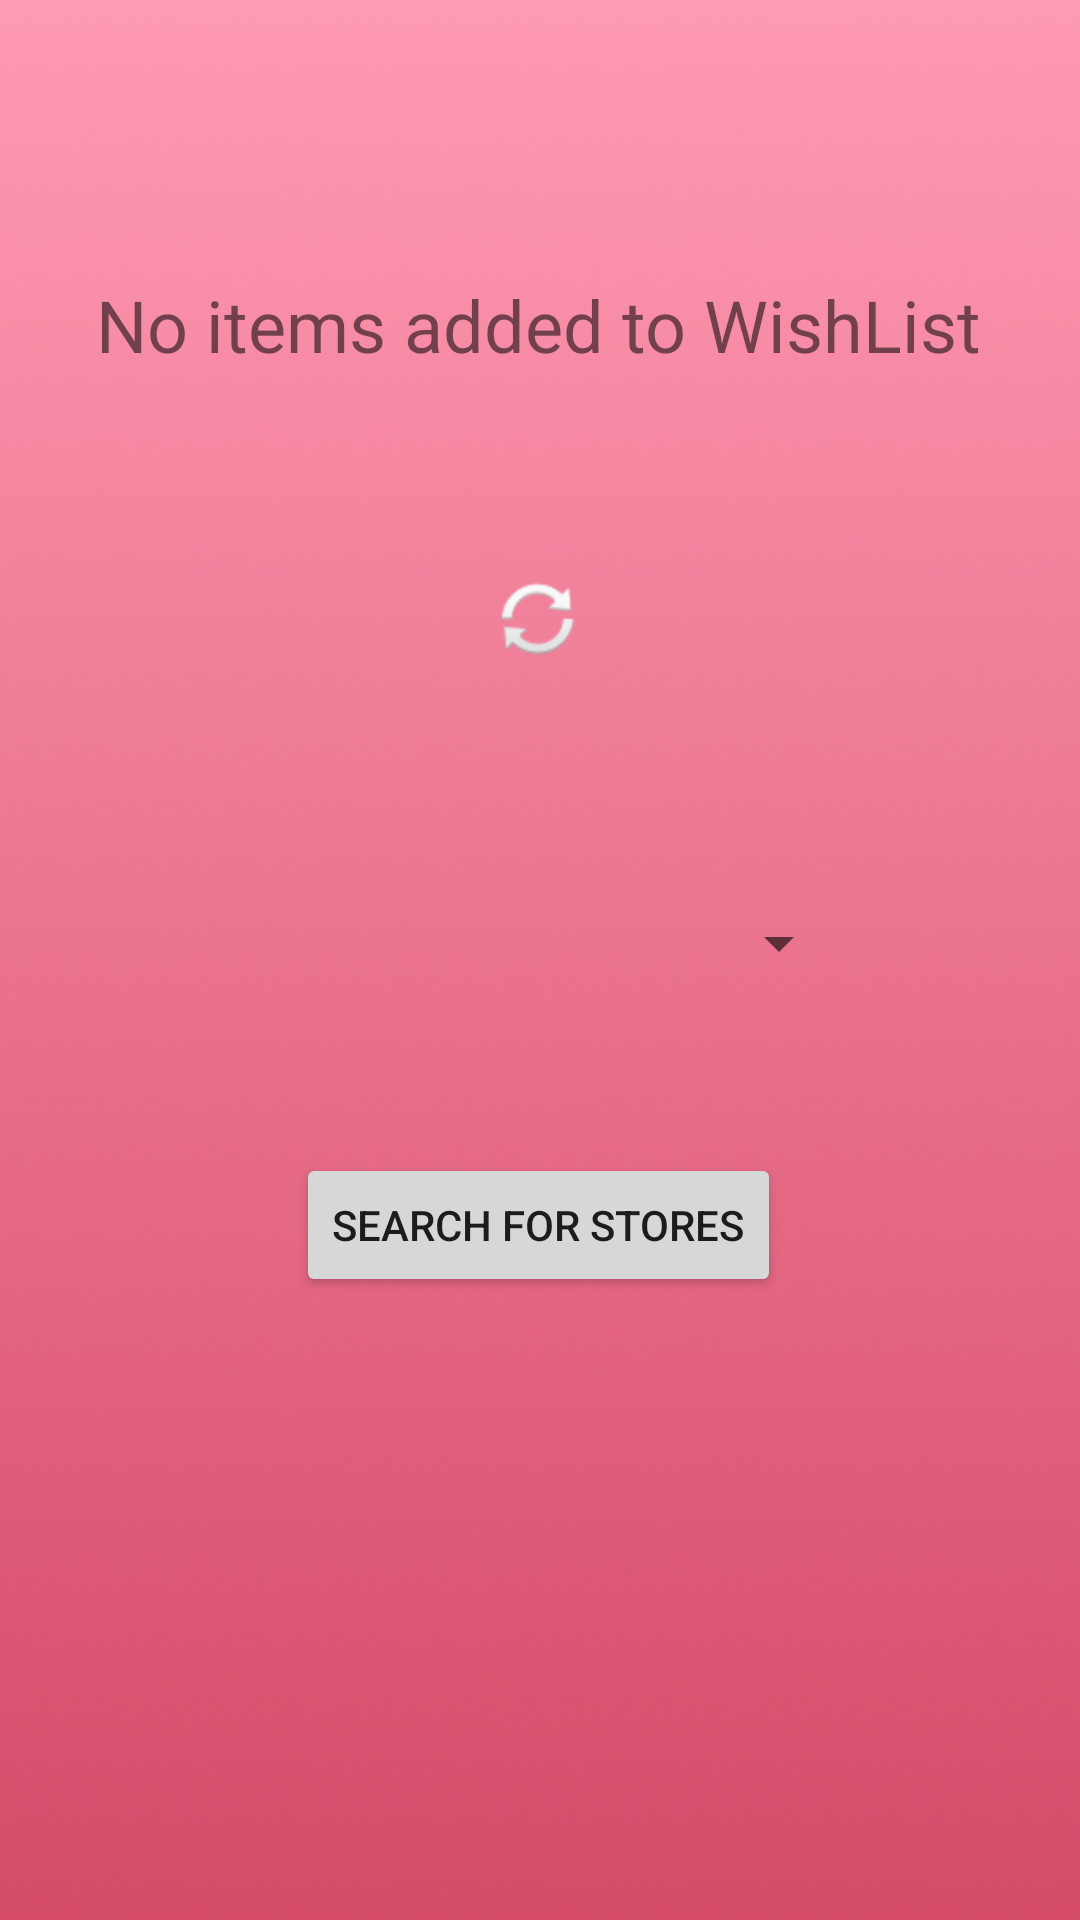

Where to tap for icons on this 1080w x 1920h app screen, as (x,y):
popup sync: (538,619)
